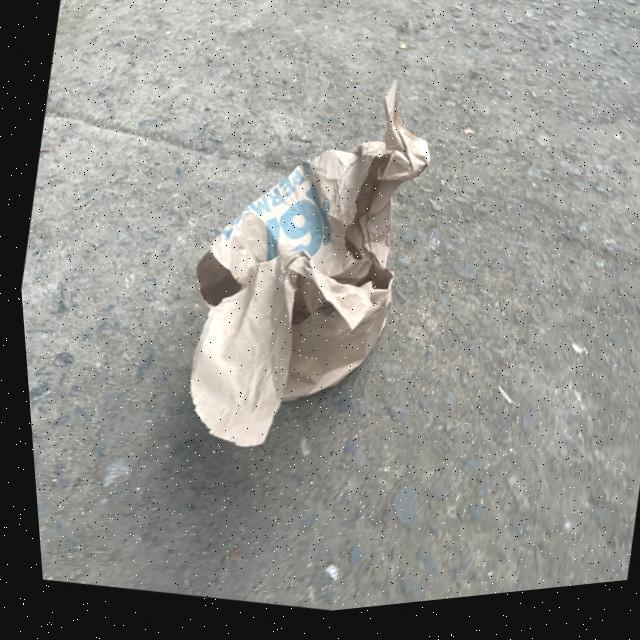Paper_Bag: (146, 47, 464, 490)
